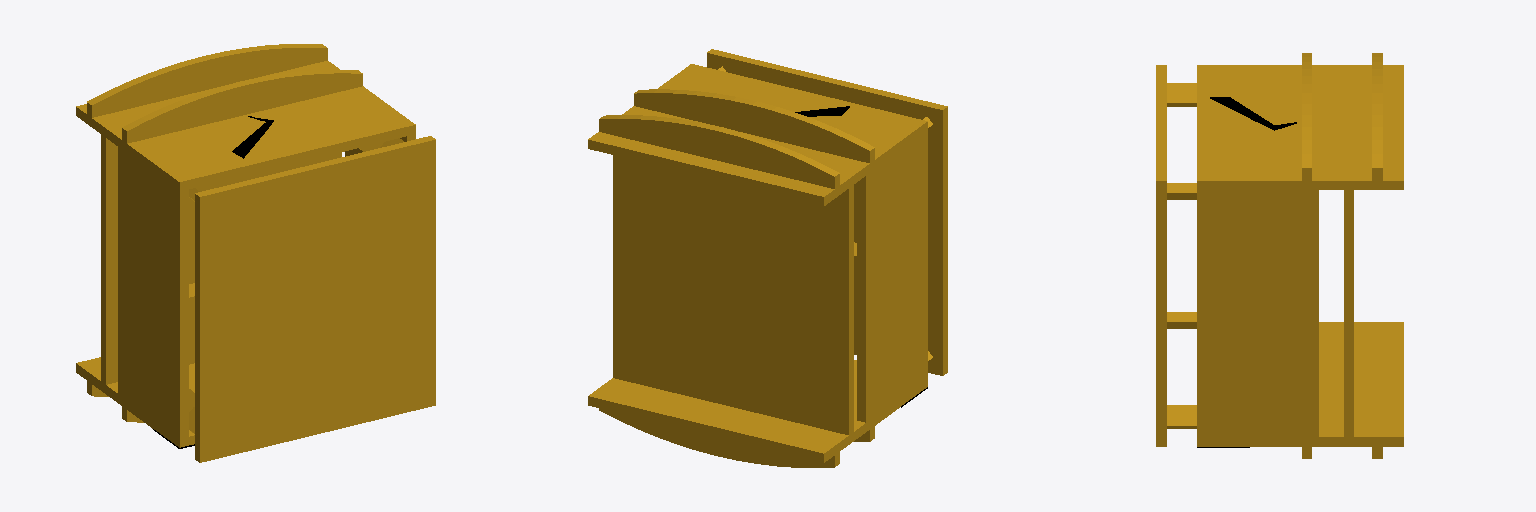
Rendered from pika.obj.
The picture shows the model from 3 angles: view 1: azimuth 30°, elevation 25°; view 2: azimuth 150°, elevation 25°; view 3: azimuth 270°, elevation 25°; orthographic projection.
Parts seen in each view (by area): view 1: Sandwitich_Robot_body2; view 2: Sandwitich_Robot_body2; view 3: Sandwitich_Robot_body2, Plane.004_Plane.005.
Part boxes in pixels (x1,y1,x2,y2): Sandwitich_Robot_body2: (76,44,435,462); Sandwitich_Robot_body2: (588,49,947,467); Sandwitich_Robot_body2: (1156,53,1403,458); Plane.004_Plane.005: (1210,97,1296,130).
Bounding box in the file's own units: 0.4973 × 0.6546 × 0.4516.